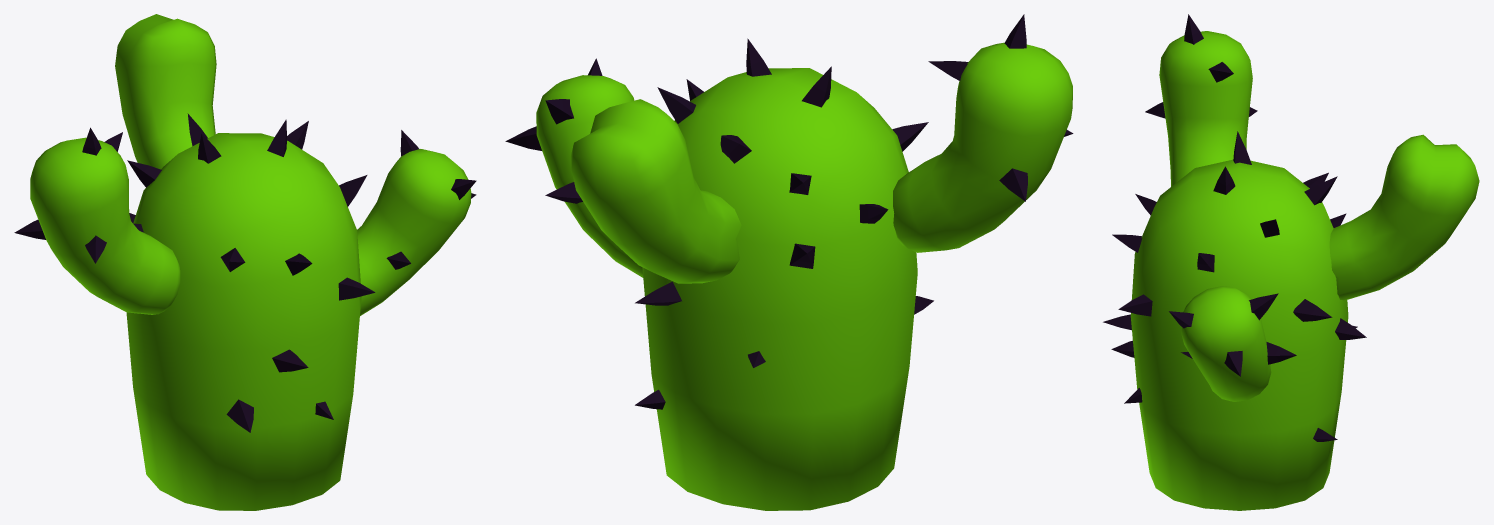
The model's file is fat_cactus.fbx.
3 views of the same model, side by side, from view 1: azimuth 30°, elevation 25°; view 2: azimuth 150°, elevation 25°; view 3: azimuth 270°, elevation 25° (orthographic). The views are drawn at different scales.
Visible parts, largest first — view 1: fat_cactus; view 2: fat_cactus; view 3: fat_cactus.
Part boxes in pixels (x1,y1,x2,y2): fat_cactus: [14, 14, 476, 510]; fat_cactus: [505, 14, 1073, 510]; fat_cactus: [1103, 14, 1479, 510].
Size of the model in its own units: 96.85 by 82.13 by 74.46.
